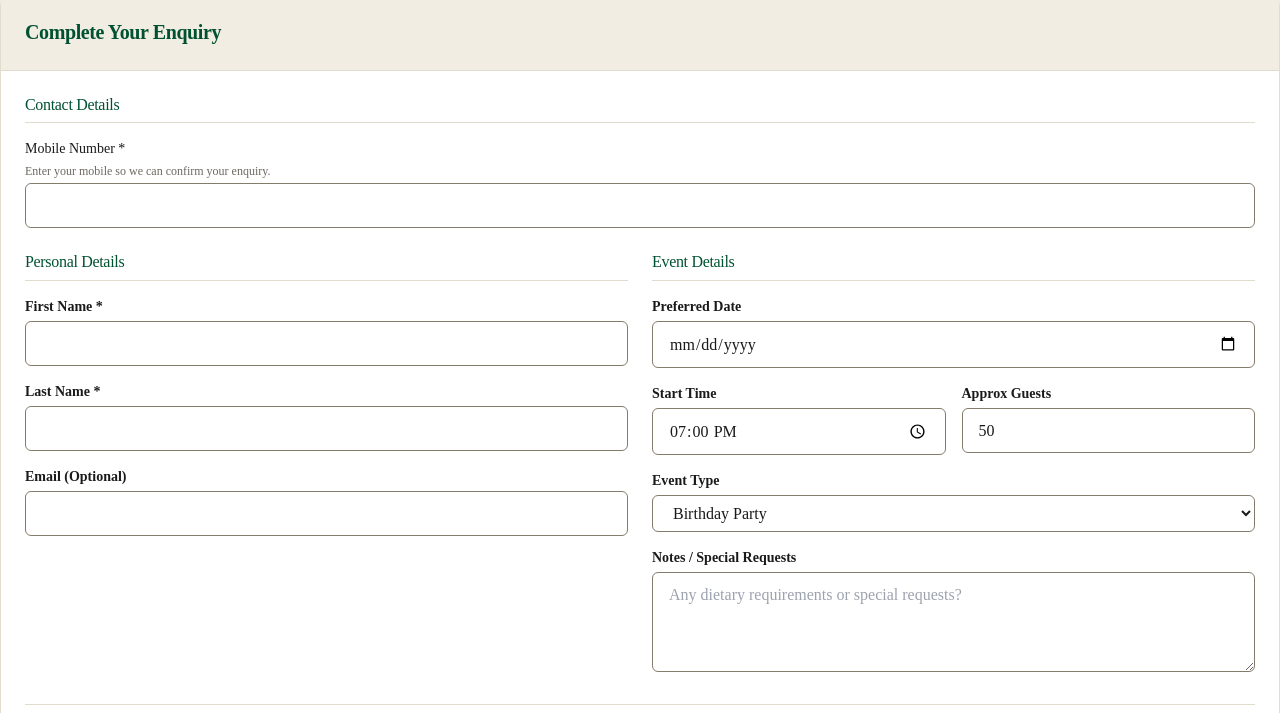
Scenario: the estimator enquiry form when the enquiry cannot be sent › says so honestly when the enquiry only reached the team by email, and does not count it
In the field labelled "Mobile Number *": (640, 206) [25,183,1255,228], type "07700900123"
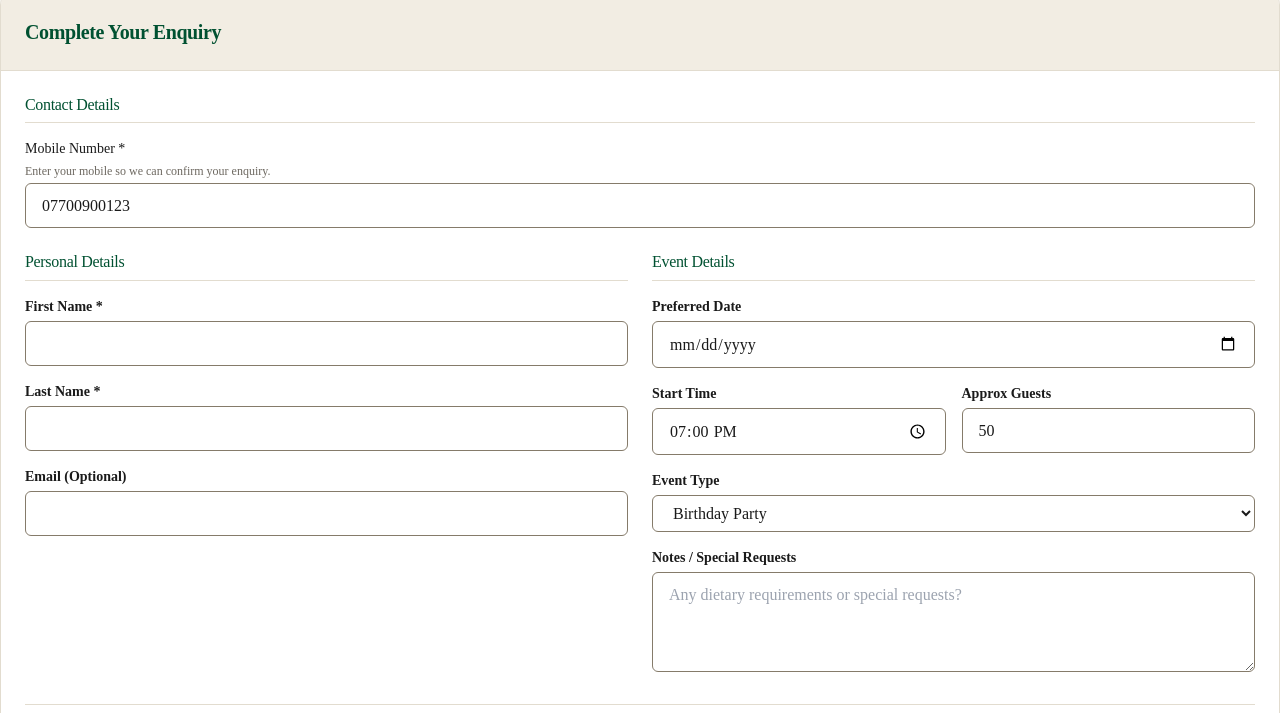
In the field labelled "First Name *": (326, 343) [25,321,628,366], type "Alice"
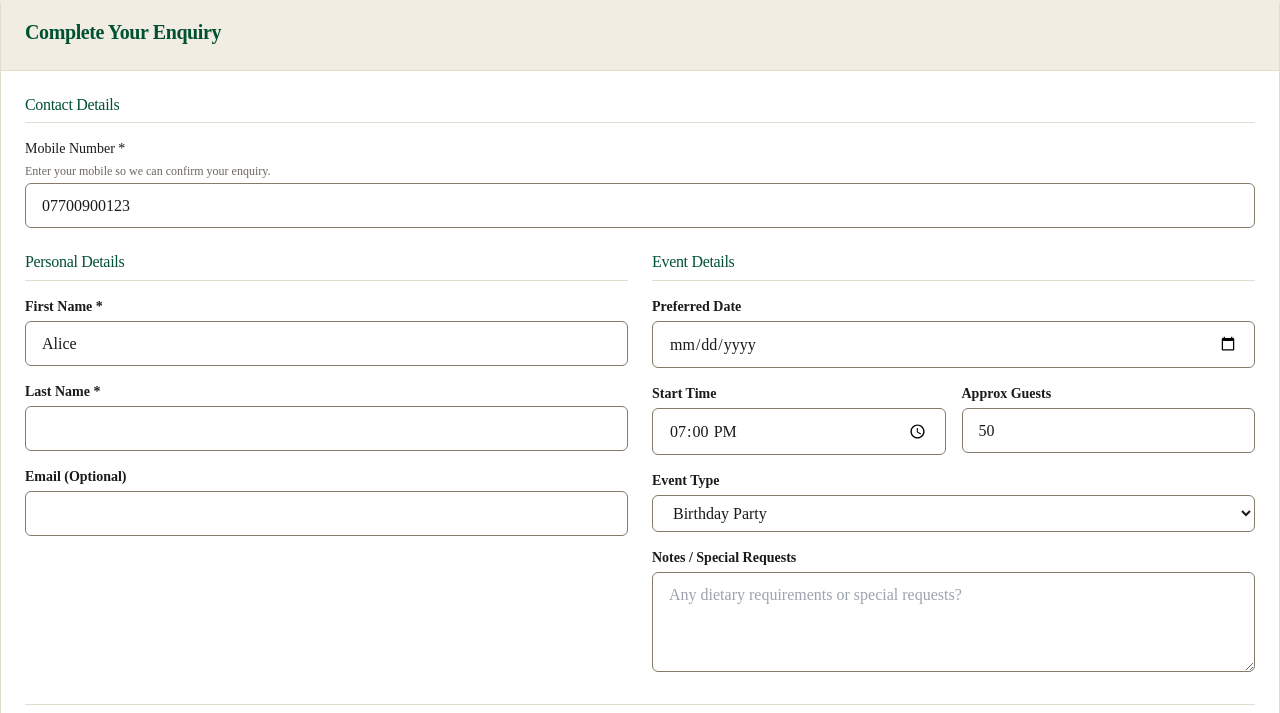
In the field labelled "Last Name *": (326, 428) [25,406,628,451], type "Booker"
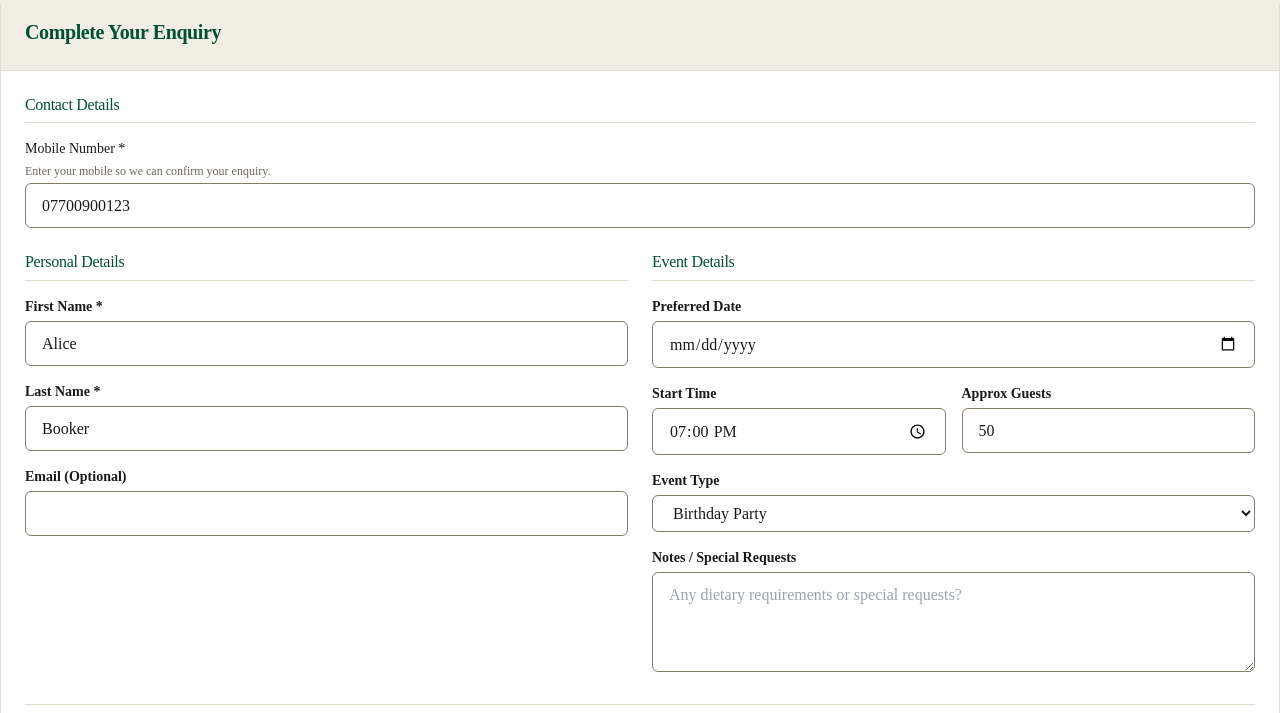
In the text box labelled "Notes / Special Requests": (954, 622) [652,572,1255,672], type "Sixty of us for a fortieth. Two vegans and one coeliac, and we would like the garden if it is dry."
(page scrolled)
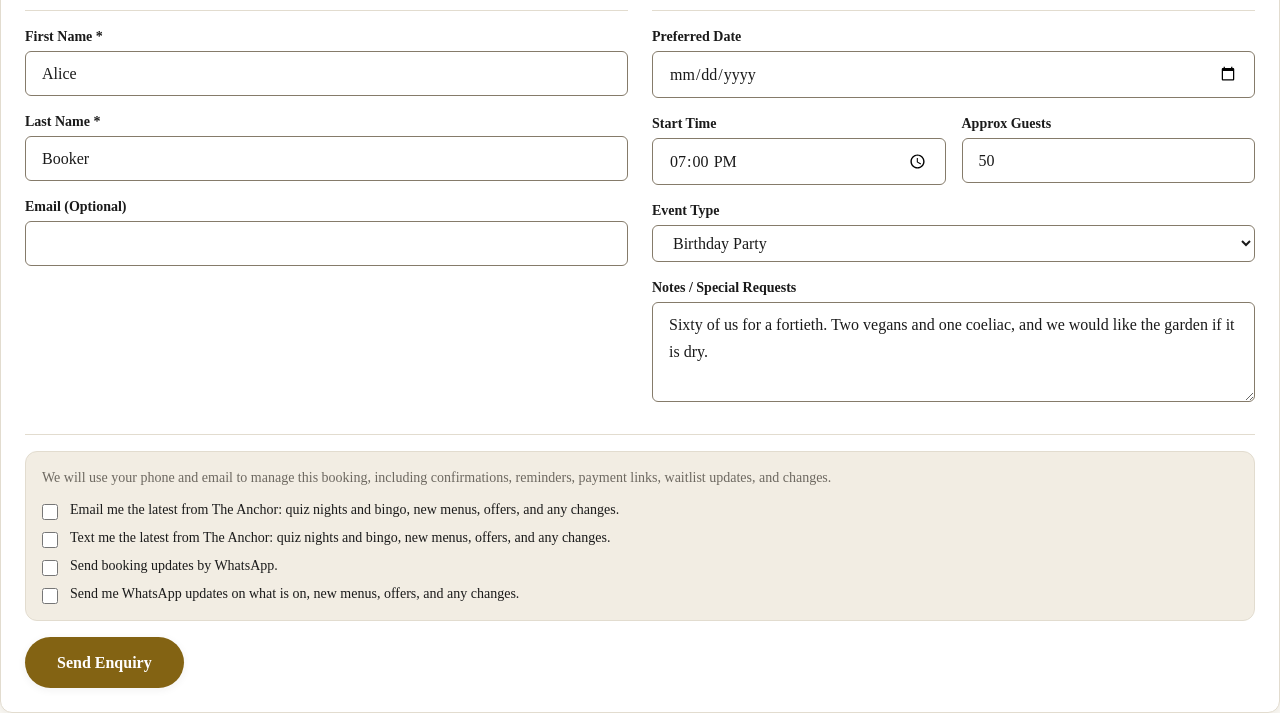
Click the button "Send Enquiry": (104, 662) [25,637,184,688]
(page scrolled)
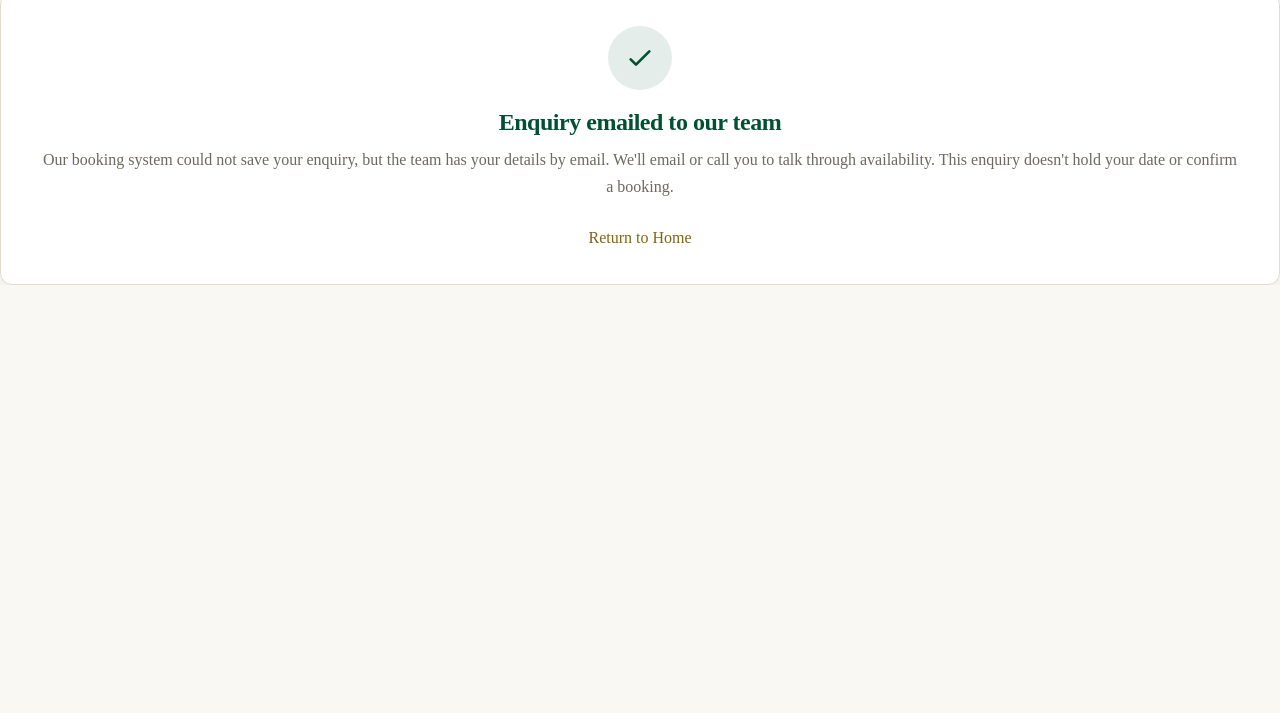
Now the heading "Enquiry emailed to our team" is shown, box [499,109,781,135]
Now the text "could not save your enquiry, but the team has your details by email" is shown, box [43,151,613,168]
